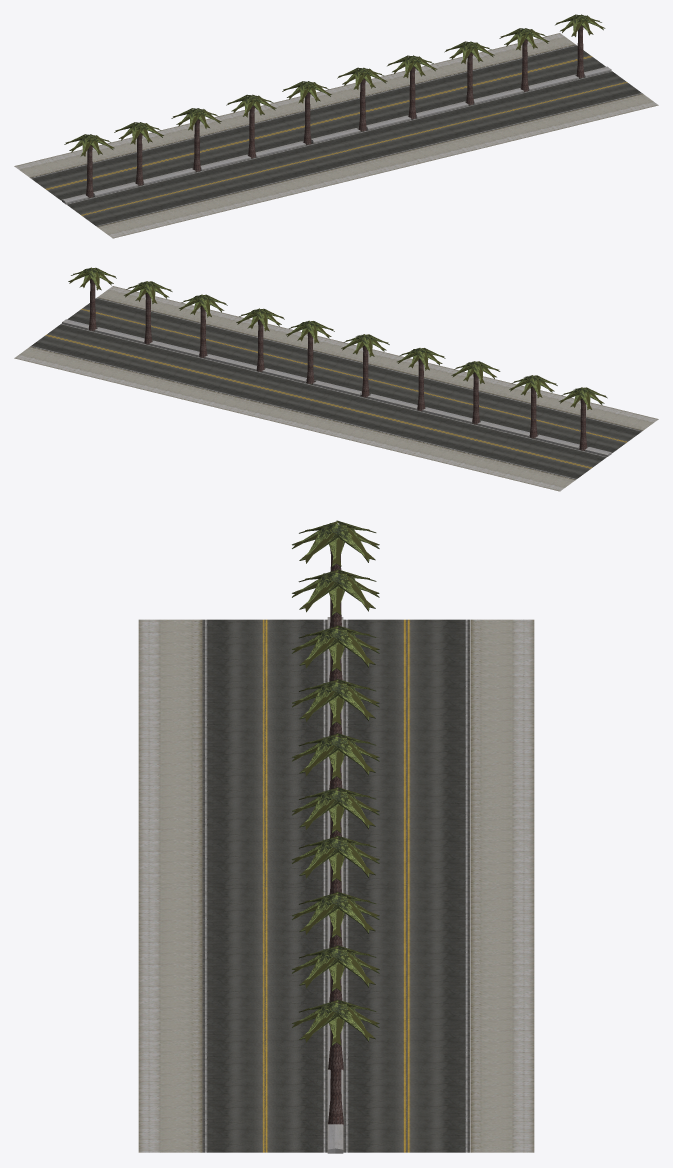
File: The_Strip_GTA_SA_Road.glb
3 renders of one model, top to bottom at view 1: azimuth 30°, elevation 25°; view 2: azimuth 150°, elevation 25°; view 3: azimuth 270°, elevation 25°, orthographic. The views are drawn at different scales.
Parts seen in each view (by area): view 1: SideWalk.002, SideWalk, Road.002, Road.005, Road.007, Road.003, Road.006, Road.001, SideWalk2.001, SideWalk2, Road, Road.004; view 2: SideWalk2, SideWalk2.001, Road, Road.004, Road.001, Road.006, Road.007, Road.003, SideWalk.002, SideWalk, Road.002, Road.005; view 3: SideWalk, SideWalk2, SideWalk.002, SideWalk2.001, Road.006, Road.001, Road.003, Road.007, Road, Road.002, Road.004, Road.005 (+1 smaller).
Part boxes in pixels (bbox=[...]): SideWalk.002: bbox=[97, 160, 385, 238]; SideWalk: bbox=[370, 94, 658, 171]; Road.002: bbox=[339, 71, 626, 148]; Road.005: bbox=[66, 137, 353, 215]; Road.007: bbox=[81, 149, 369, 226]; Road.003: bbox=[355, 82, 642, 160]; Road.006: bbox=[30, 111, 318, 189]; Road.001: bbox=[303, 44, 591, 122]; SideWalk2.001: bbox=[14, 99, 302, 177]; SideWalk2: bbox=[287, 33, 575, 110]; Road: bbox=[319, 56, 605, 133]; Road.004: bbox=[46, 123, 332, 200]; SideWalk2: bbox=[14, 346, 302, 424]; SideWalk2.001: bbox=[287, 413, 575, 491]; Road: bbox=[46, 323, 334, 401]; Road.004: bbox=[319, 390, 607, 467]; Road.001: bbox=[30, 335, 318, 412]; Road.006: bbox=[303, 402, 591, 479]; Road.007: bbox=[354, 364, 642, 442]; Road.003: bbox=[82, 297, 369, 375]; SideWalk.002: bbox=[370, 352, 658, 430]; SideWalk: bbox=[97, 286, 385, 363]; Road.002: bbox=[67, 309, 354, 385]; Road.005: bbox=[341, 376, 627, 453]; SideWalk: bbox=[138, 886, 202, 1152]; SideWalk2: bbox=[470, 886, 534, 1152]; SideWalk.002: bbox=[138, 619, 202, 885]; SideWalk2.001: bbox=[470, 619, 534, 885]; Road.006: bbox=[406, 619, 470, 885]; Road.001: bbox=[406, 886, 470, 1152]; Road.003: bbox=[202, 886, 266, 1152]; Road.007: bbox=[202, 619, 266, 885]; Road: bbox=[343, 886, 407, 1152]; Road.002: bbox=[264, 886, 327, 1152]; Road.004: bbox=[343, 619, 407, 885]; Road.005: bbox=[264, 619, 327, 885].
Bounding box in the file's own units: 159 × 17.25 × 50.03.
Materials: 7 (7 with a texture image).
